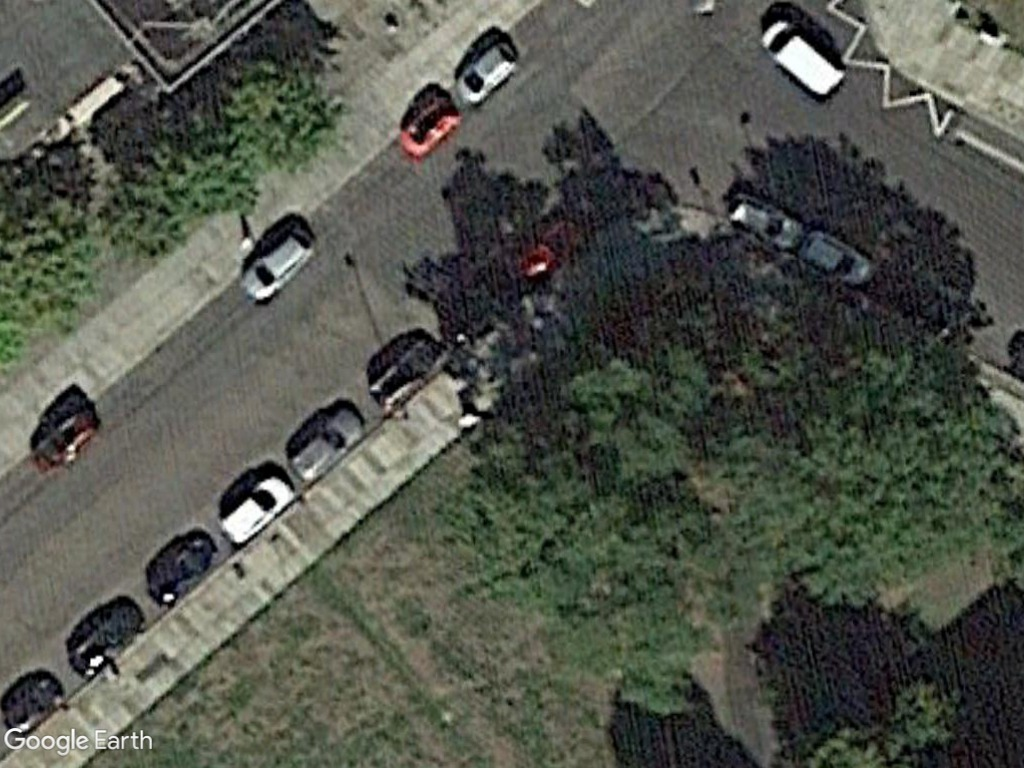car: (232, 212, 321, 307), (442, 29, 533, 110)
van: (753, 10, 850, 103), (214, 470, 299, 550)
